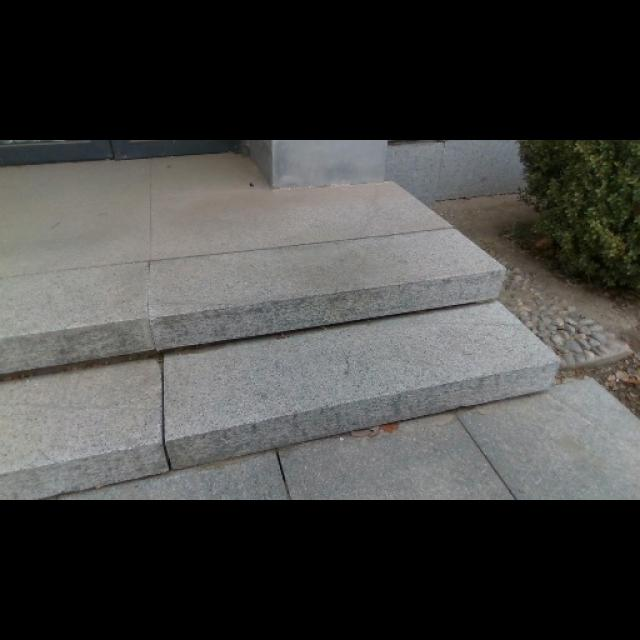Stairs: (0, 186, 636, 499)
